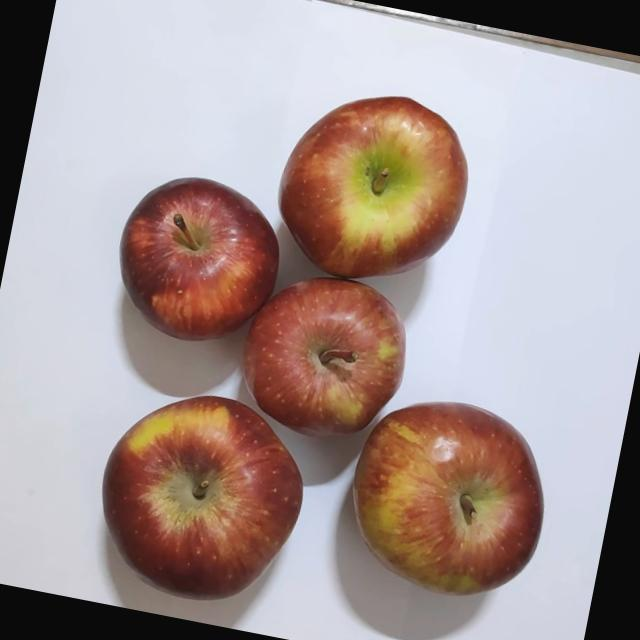apple: (70, 369, 327, 627), (327, 370, 573, 626), (258, 74, 494, 308), (227, 258, 426, 454), (102, 162, 292, 358)
